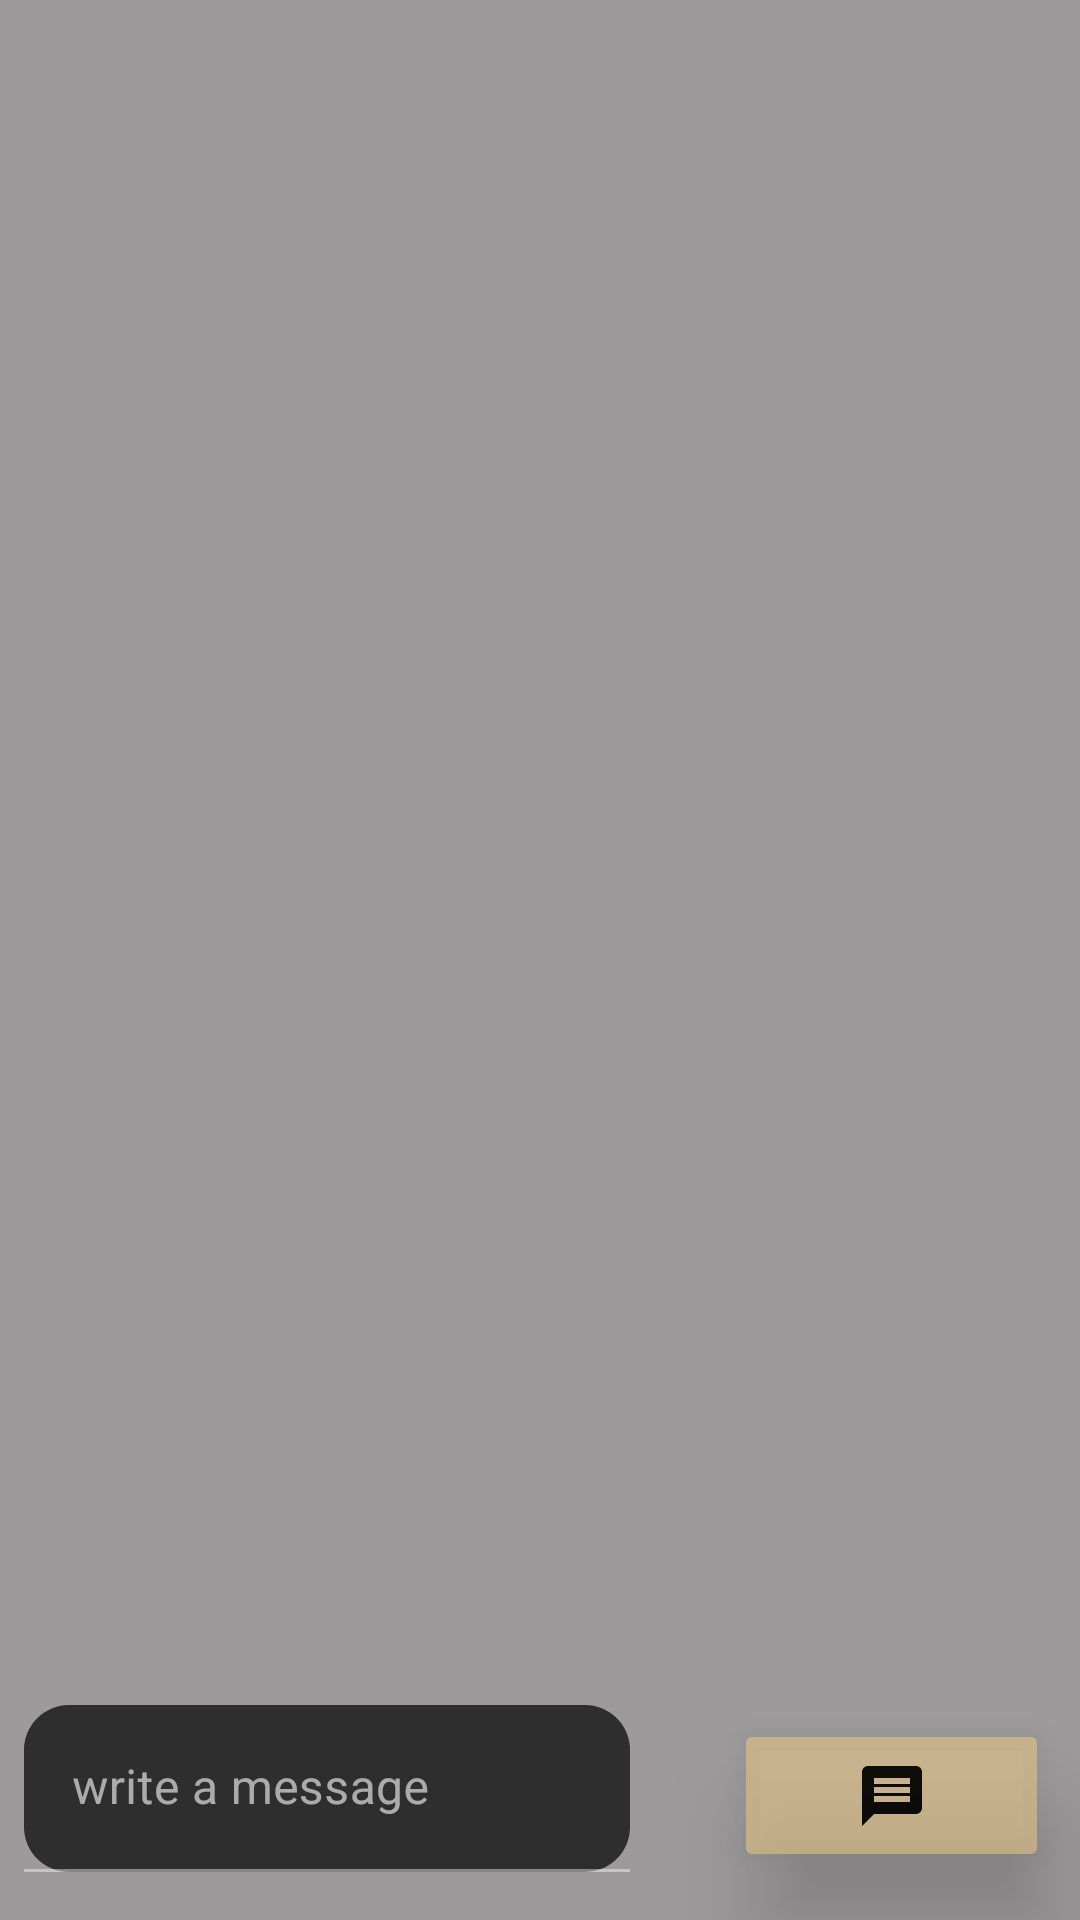

Screen size 1080 × 1920. Icon name, then its box in pixels as Rect(x1, y1, x2, y2):
send: Rect(746, 1737, 1037, 1854)
